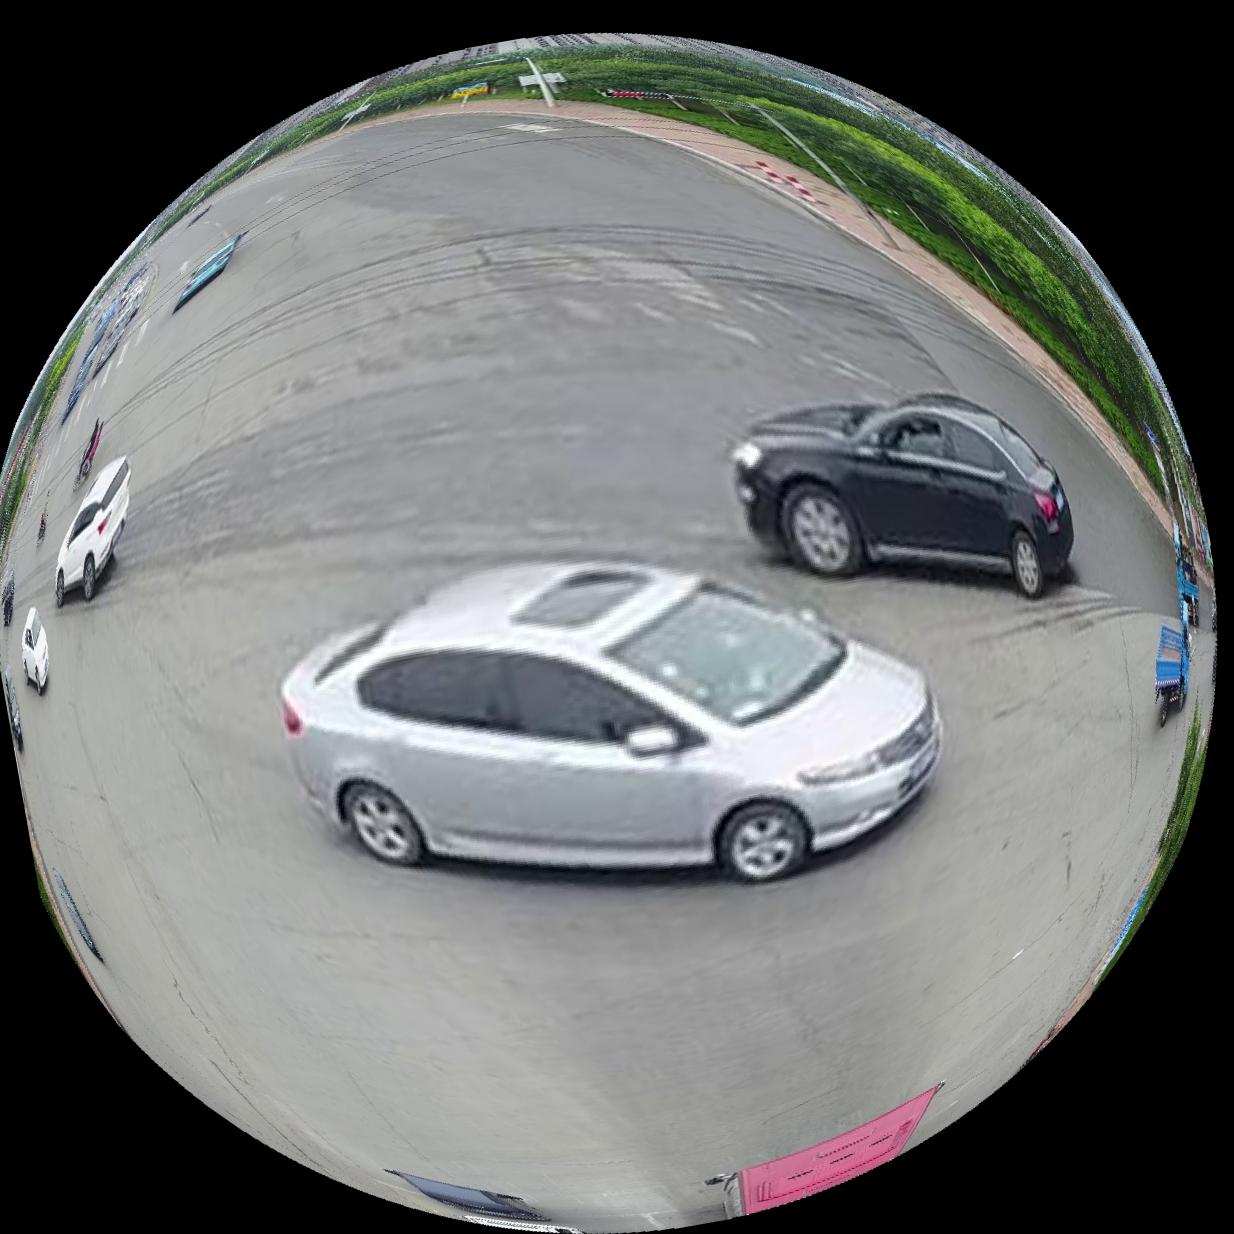cars: (281, 562, 942, 881), (731, 392, 1076, 598), (53, 458, 130, 606)
trees: (733, 58, 1184, 489)
